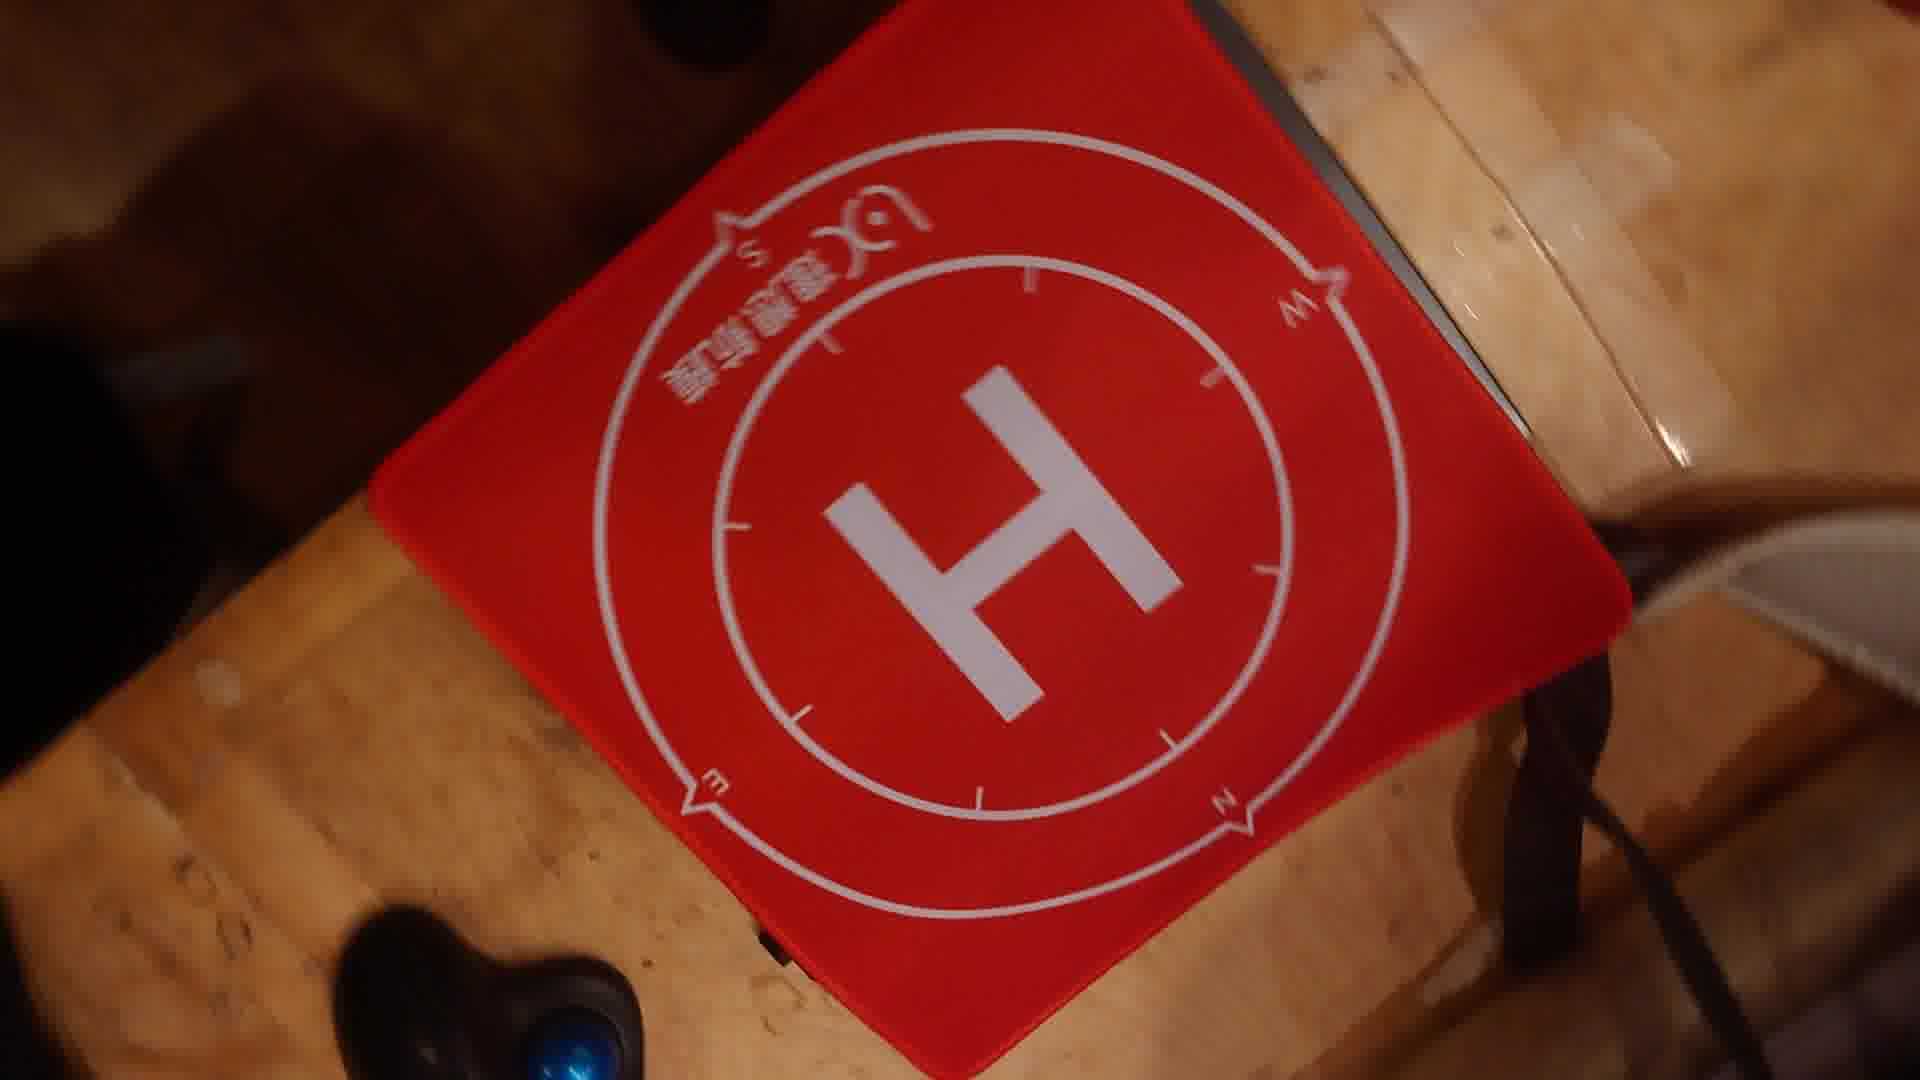H: (824, 367, 1185, 723)
